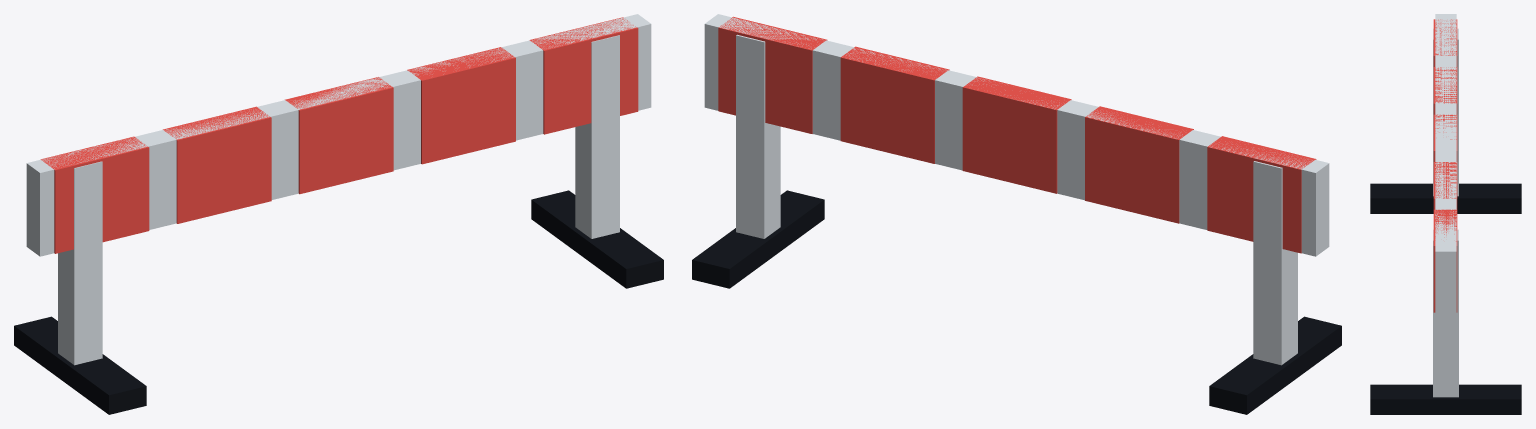
Rendered from road-barrier.glb.
3 renders of one model, left to right at view 1: azimuth 30°, elevation 25°; view 2: azimuth 150°, elevation 25°; view 3: azimuth 270°, elevation 25°, orthographic. The views are drawn at different scales.
Parts seen in each view (by area): view 1: barrier_stripe (×5), barrier_plank, barrier_leg (×2), barrier_foot (×2); view 2: barrier_stripe (×5), barrier_plank, barrier_leg (×2), barrier_foot (×2); view 3: barrier_foot (×2), barrier_plank, barrier_stripe (×5), barrier_leg (×2).
Boxes of the visible parts, x1,y1,x2,y2 form: barrier_stripe (×5): (40,17,638,253); barrier_plank: (26,14,651,256); barrier_leg (×2): (58,35,619,365); barrier_foot (×2): (14,190,663,414); barrier_stripe (×5): (718,16,1316,253); barrier_plank: (704,14,1329,256); barrier_leg (×2): (736,34,1297,365); barrier_foot (×2): (692,190,1341,414); barrier_foot (×2): (1370,183,1521,414); barrier_plank: (1435,14,1456,318); barrier_stripe (×5): (1433,19,1457,312); barrier_leg (×2): (1433,28,1458,397).
Bounding box in the file's own units: 2.6 × 0.89 × 0.7.
